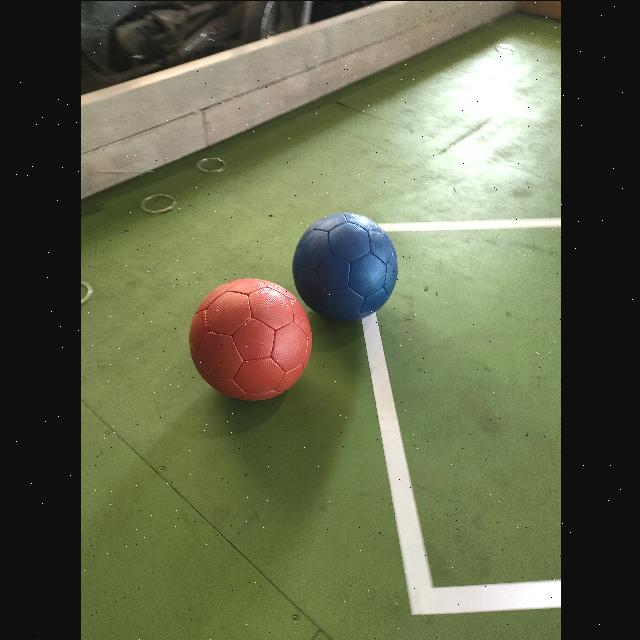B: (292, 212, 396, 320)
R: (189, 277, 311, 398)
